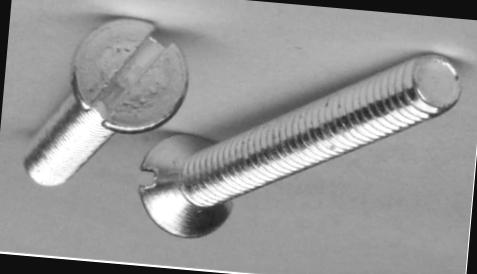slotted: (66, 13, 192, 136)
